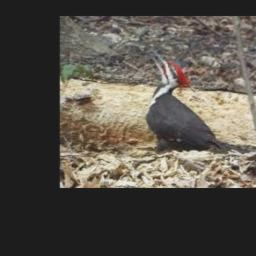Woodpecker: (145, 51, 250, 154)
